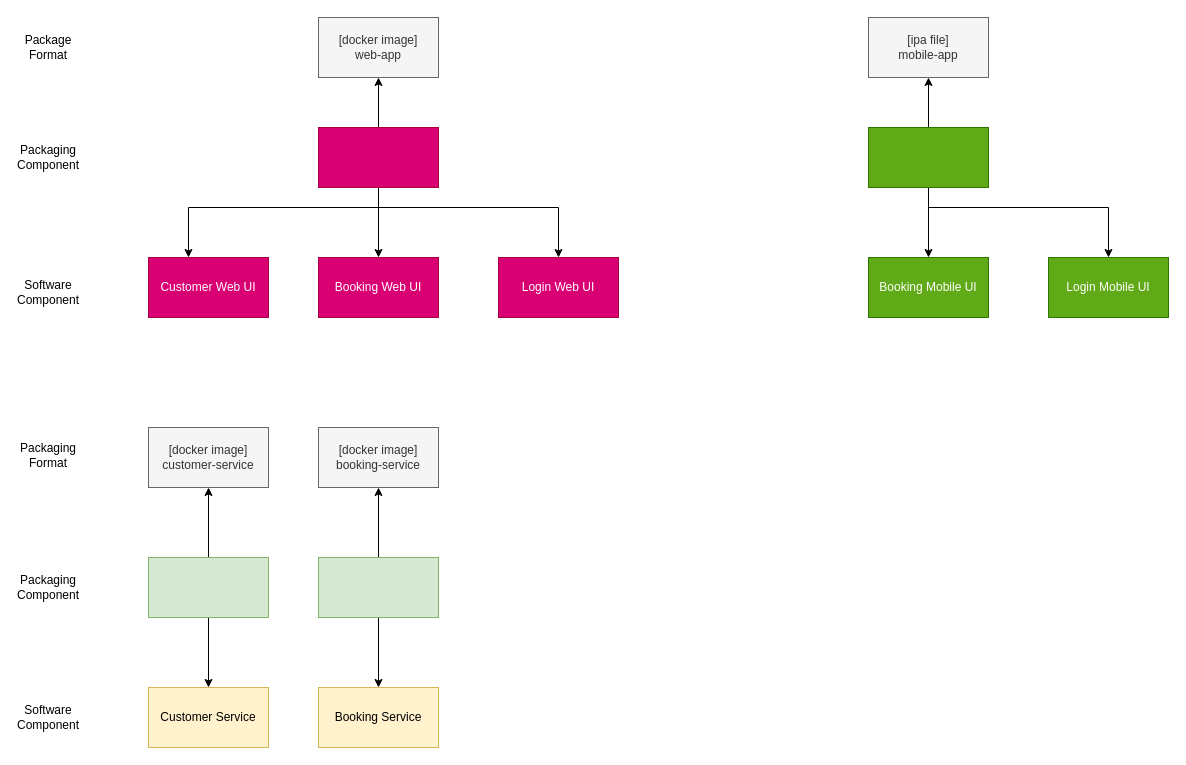
Some shapes in this 1186 by 765 pixel diagram are drawn without their labels. Here are the shapes that lost their labels. From the top down, the centre of each, then its label:
At (x=378, y=157): "web-app".
At (x=928, y=157): "mobile-app".
At (x=208, y=587): "customer-service".
At (x=378, y=587): "booking-service".
